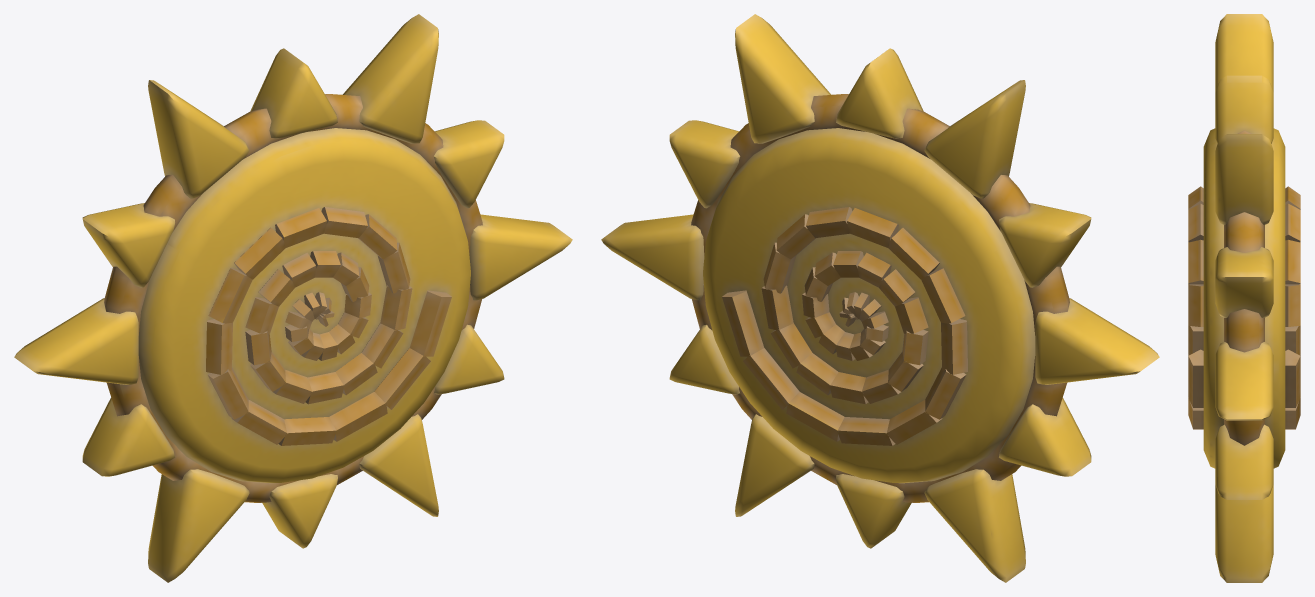
File: sd_coin.glb
3 renders of one model, left to right at view 1: azimuth 30°, elevation 25°; view 2: azimuth 150°, elevation 25°; view 3: azimuth 270°, elevation 25°, orthographic. The views are drawn at different scales.
Parts seen in each view (by area): view 1: sd_coin; view 2: sd_coin; view 3: sd_coin.
Boxes of the visible parts, <box> form: sd_coin: <box>14,14,572,582</box>; sd_coin: <box>601,14,1159,582</box>; sd_coin: <box>1188,14,1300,582</box>.
Size of the model in its own units: 0.9779 by 0.8469 by 0.1918.
2 materials, 2 textured.
